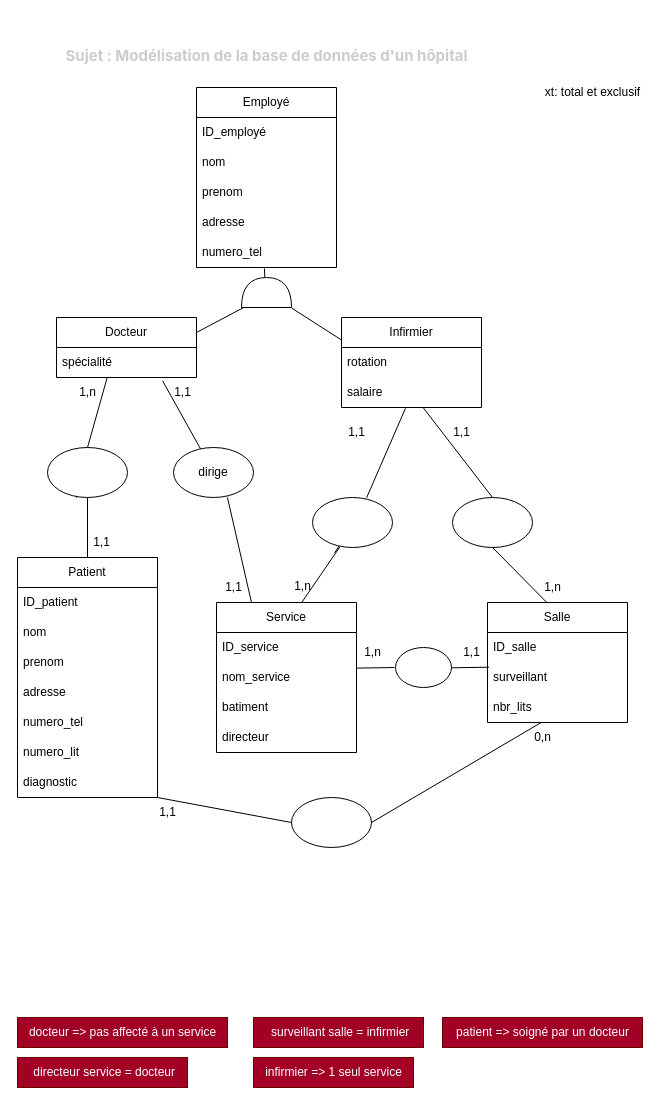
This 670x1105 diagram has some shape labels left out. Here are the shapes that lost their labels. From the top down, the centre of each, then its label:
At pixel 266 292: "xt".
At pixel 87 472: "soigne".
At pixel 352 522: "est affecté à".
At pixel 492 522: "surveille".
At pixel 423 667: "contient".
At pixel 331 822: "compose".
